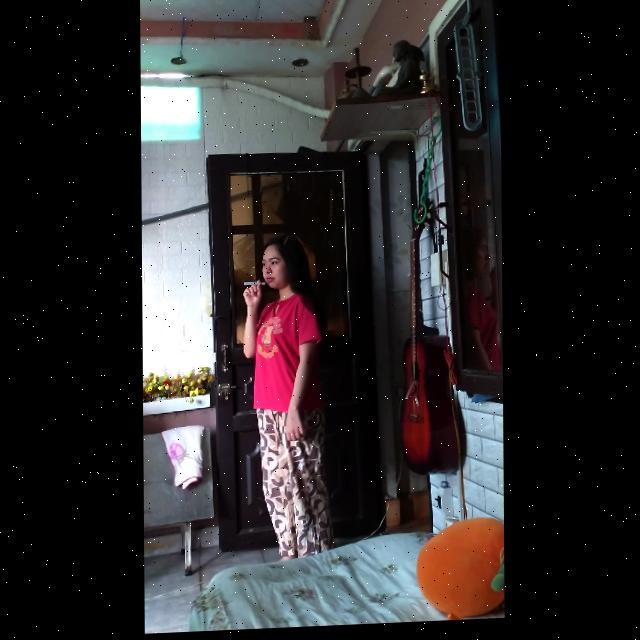cigarette: (243, 284, 264, 289)
